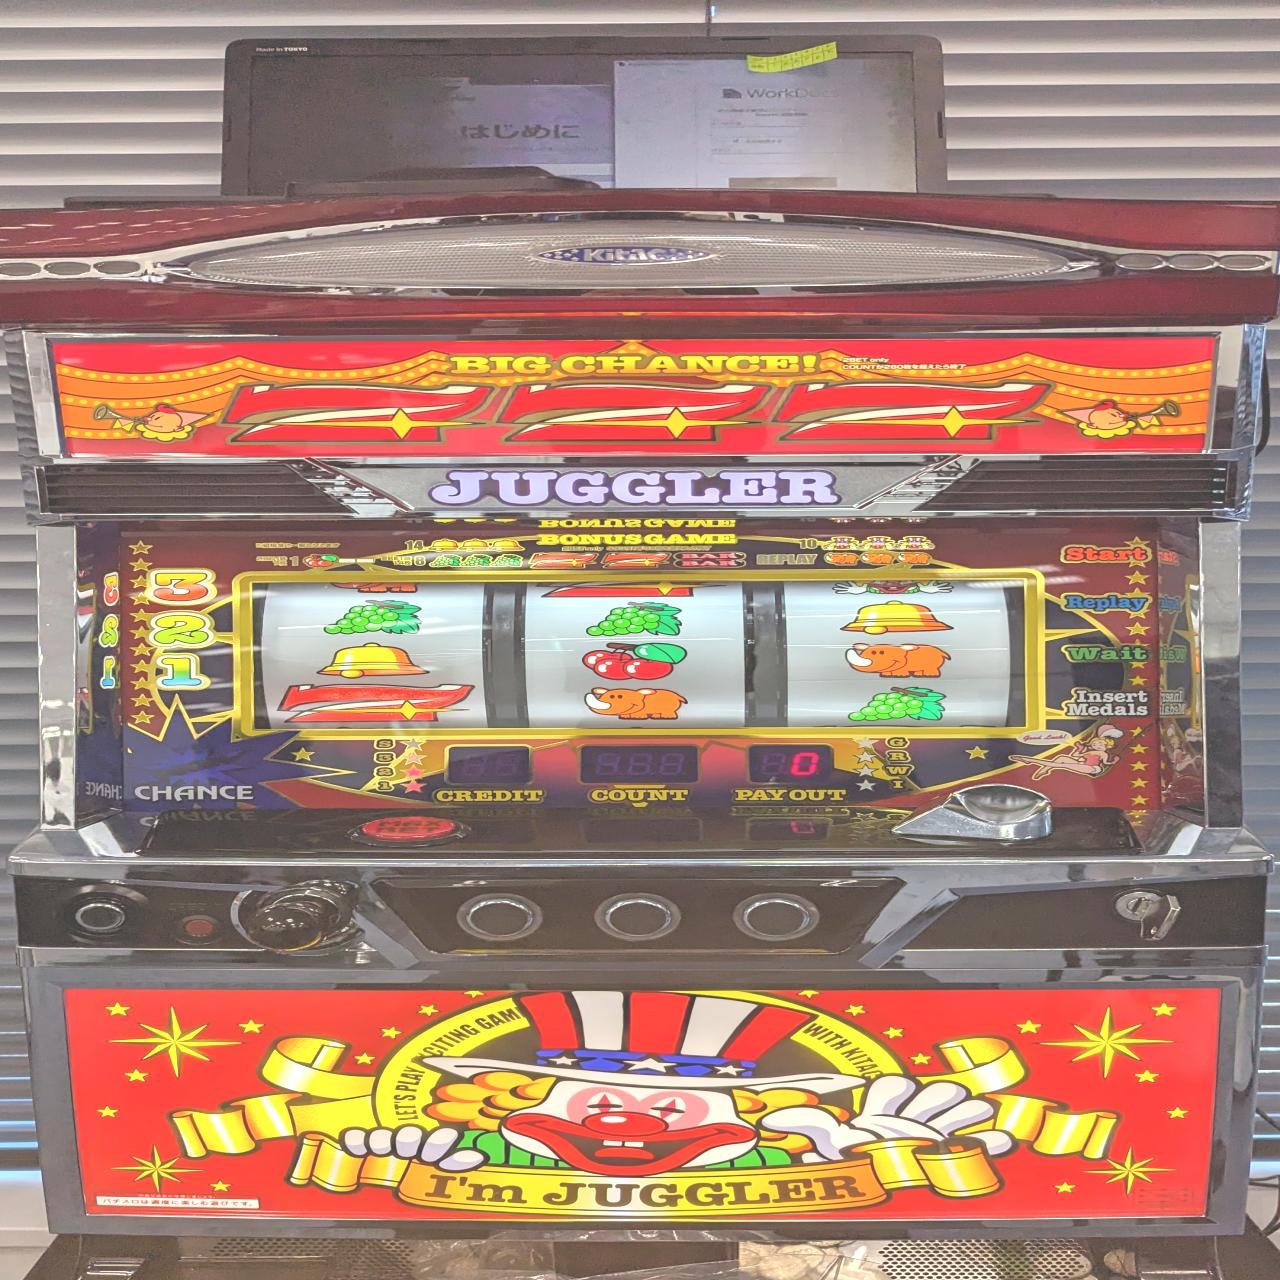7: (271, 681, 477, 724)
8: (843, 640, 955, 681), (580, 685, 692, 722)
Display: (244, 573, 1034, 730)
bell: (314, 640, 434, 681), (840, 598, 958, 635)
cherry: (580, 640, 689, 682)
grape: (318, 598, 425, 639), (845, 686, 951, 726), (586, 600, 687, 640)
